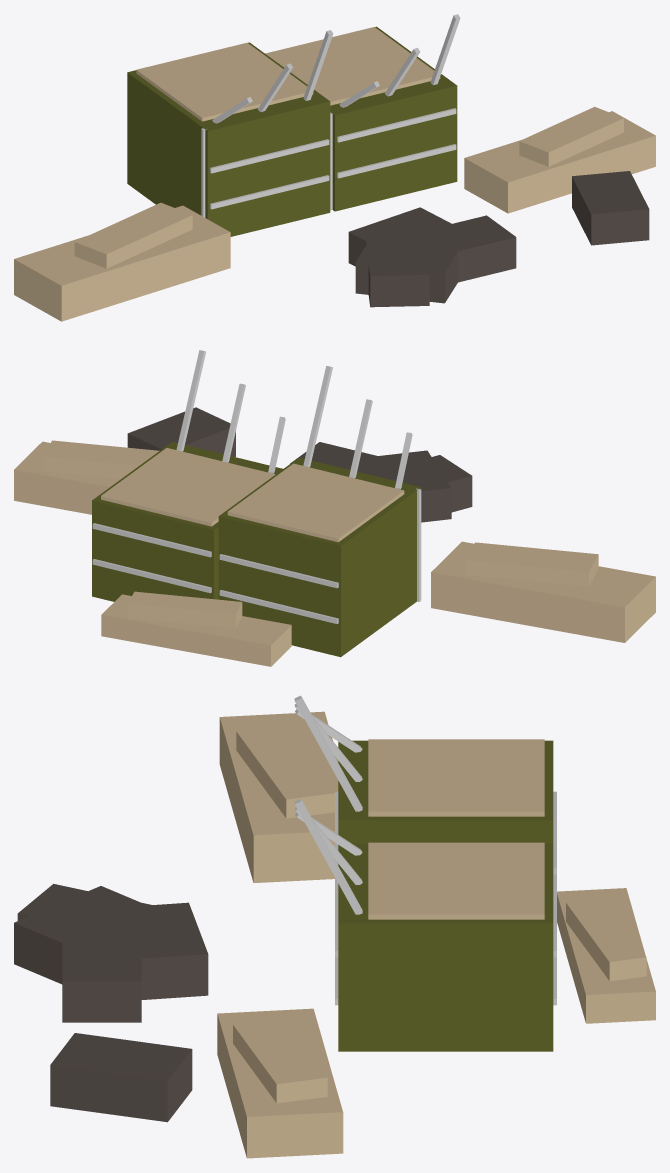
File: SM_HescoCorto2_v1_Geotextil_e2_MuyDanado_LOD0.fbx
The picture shows the model from 3 angles, top to bottom: view 1: azimuth 30°, elevation 25°; view 2: azimuth 150°, elevation 25°; view 3: azimuth 270°, elevation 25°; orthographic projection. The views are drawn at different scales.
Parts seen in each view (by area): view 1: SM_hesco_piezas_v66_LOD0; view 2: SM_hesco_piezas_v66_LOD0; view 3: SM_hesco_piezas_v66_LOD0.
Boxes of the visible parts, box(x1,y1,x2,y2) form: SM_hesco_piezas_v66_LOD0: box(14, 14, 655, 321); SM_hesco_piezas_v66_LOD0: box(14, 350, 655, 666); SM_hesco_piezas_v66_LOD0: box(14, 695, 655, 1158).
Bounding box in the file's own units: 5.36 × 1.64 × 3.64.
